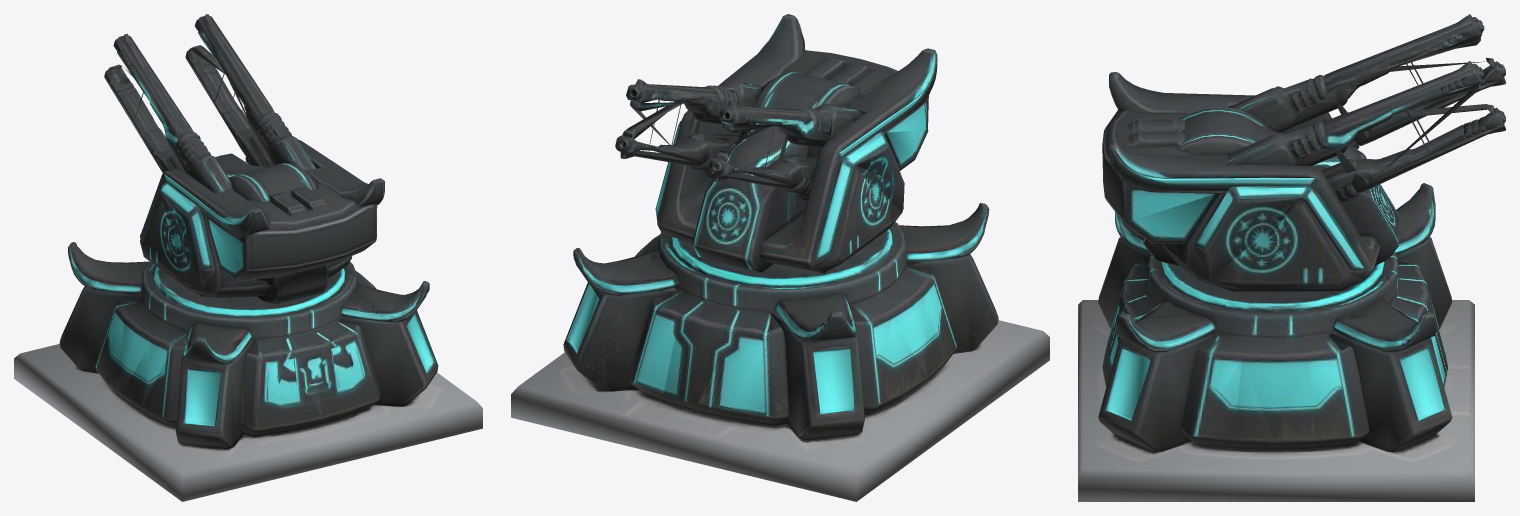
File: defender_vx.glb
3 renders of one model, left to right at view 1: azimuth 30°, elevation 25°; view 2: azimuth 150°, elevation 25°; view 3: azimuth 270°, elevation 25°, orthographic. The views are drawn at different scales.
Visible parts, largest first — view 1: Body, Turret, Trim; view 2: Body, Turret, Trim; view 3: Body, Turret, Trim.
Boxes of the visible parts, x1,y1,x2,y2 form: Body: (14, 191, 482, 501); Turret: (104, 14, 384, 304); Trim: (70, 203, 434, 426); Body: (511, 121, 1049, 501); Turret: (615, 14, 937, 273); Trim: (567, 125, 986, 416); Body: (1078, 183, 1474, 501); Turret: (1102, 14, 1505, 291); Trim: (1104, 187, 1447, 440).
Size of the model in its own units: 7.6 by 7.72 by 7.94.
2 materials, 2 textured.
